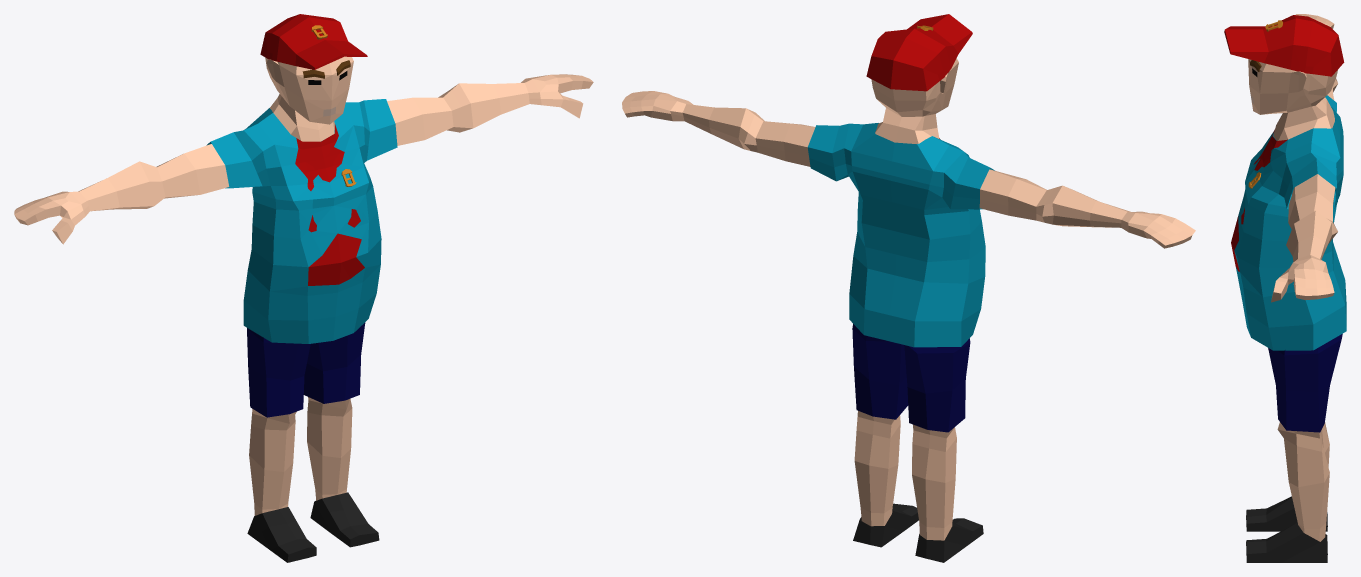
The model's file is Gordo.fbx.
3 renders of one model, left to right at view 1: azimuth 30°, elevation 25°; view 2: azimuth 150°, elevation 25°; view 3: azimuth 270°, elevation 25°, orthographic.
Visible parts, largest first — view 1: Cuerpo; view 2: Cuerpo; view 3: Cuerpo.
Boxes of the visible parts, x1,y1,x2,y2 form: Cuerpo: [14, 14, 593, 562]; Cuerpo: [622, 14, 1195, 562]; Cuerpo: [1224, 14, 1346, 562].
Bounding box in the file's own units: 215 × 185 × 39.45.
